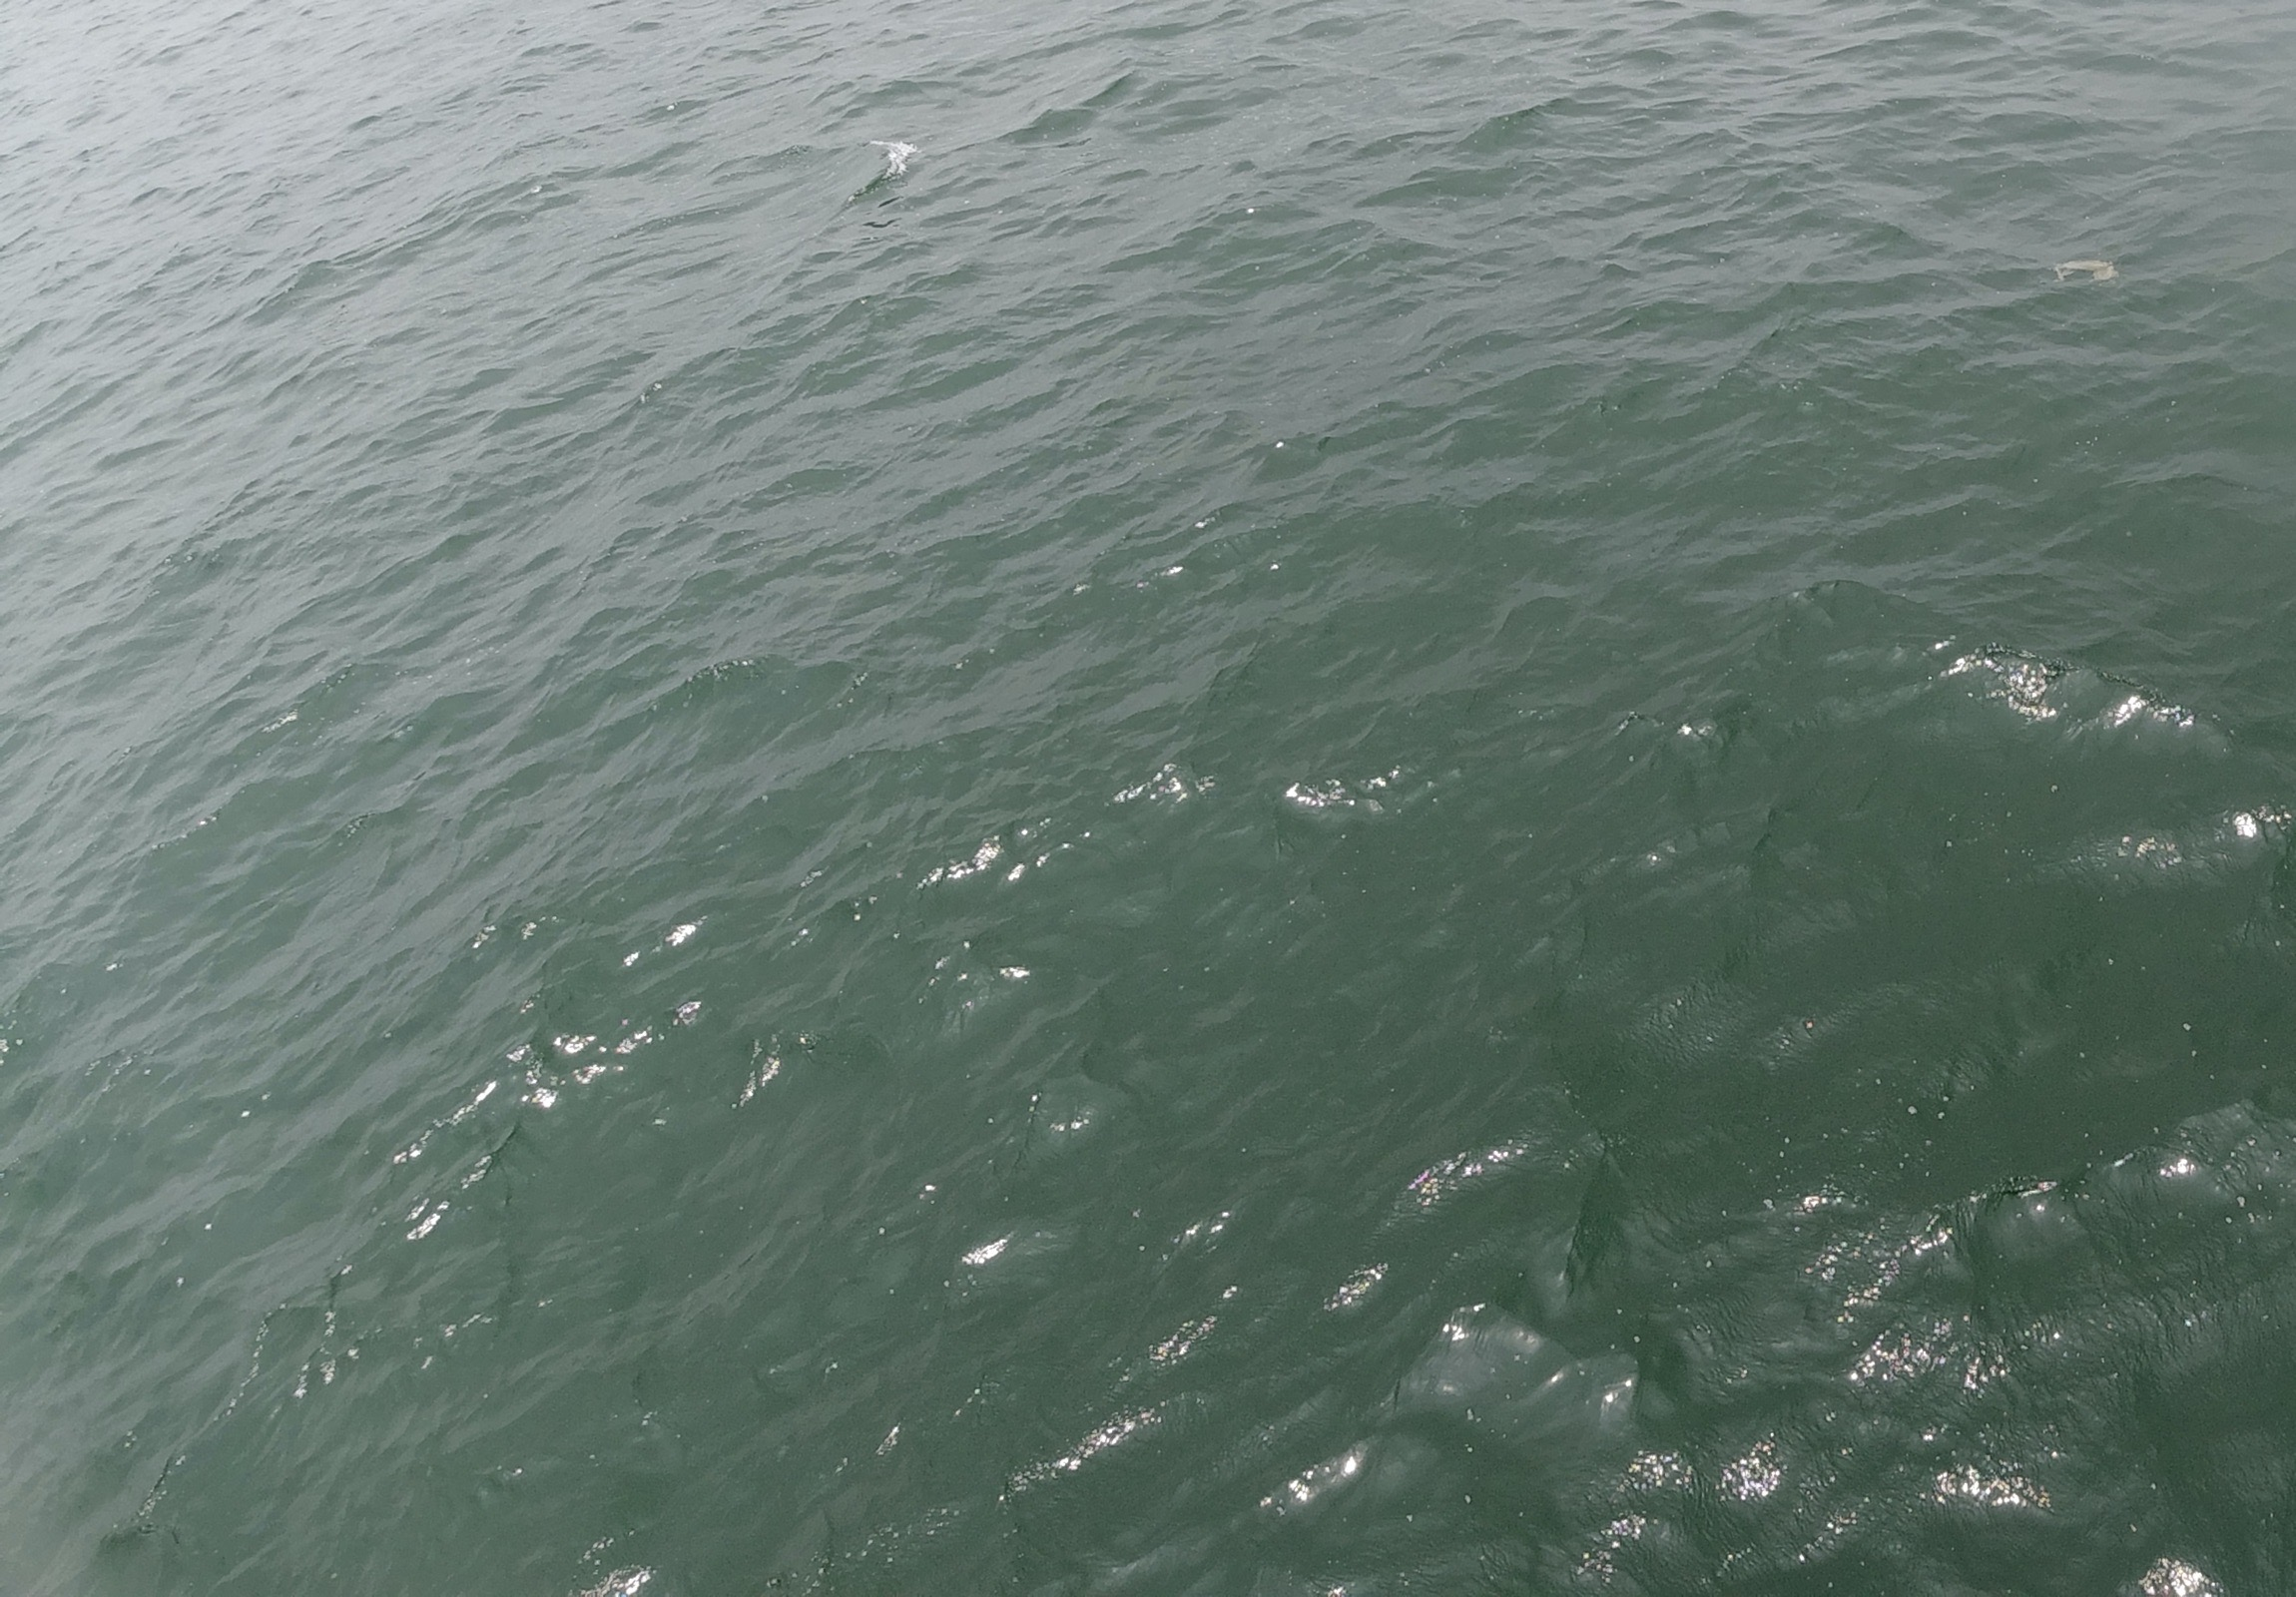plastic: (2034, 248, 2132, 297)
